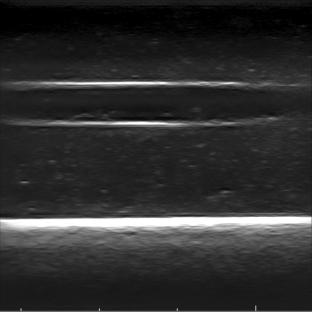vessel: (0, 80, 274, 129)
